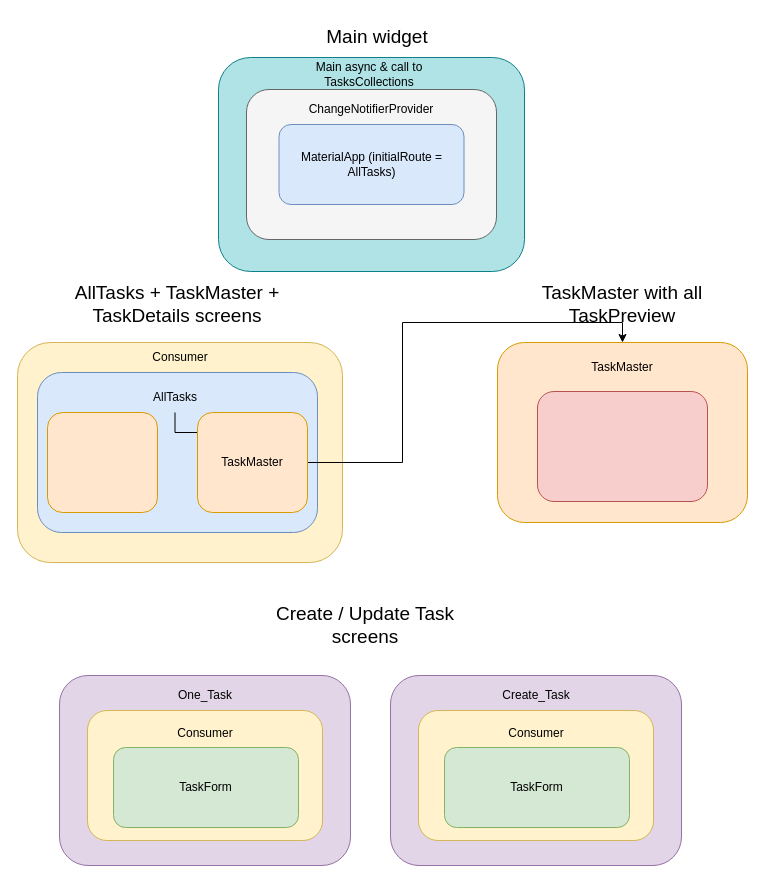
The diagram is 765 pixels wide and 883 high, and some of its shapes have lost their labels. Here are the shapes that lost their labels. From the top down, the centre of each, then its label:
At pixel 102 462: "TaskDetails".
At pixel 622 446: "TaskPreview : call TasksCollection() (2x times)".
